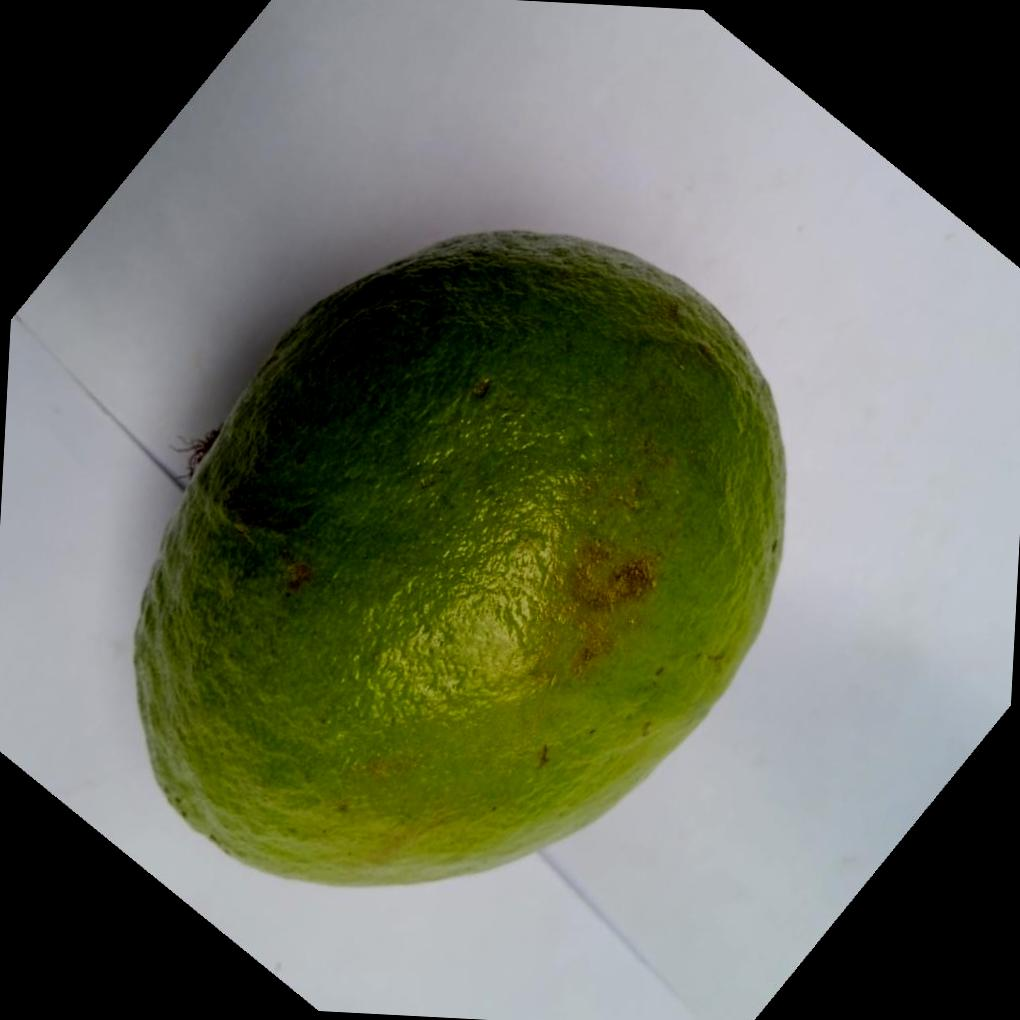FreshGuava: (126, 227, 786, 889)
